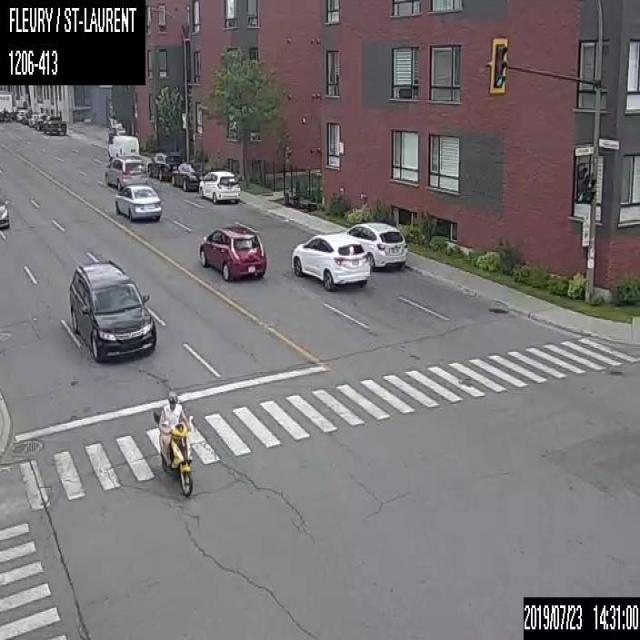vehicle: (66, 259, 158, 360), (289, 232, 370, 288), (152, 388, 192, 496), (197, 221, 266, 280), (342, 220, 407, 270), (114, 183, 160, 221), (103, 155, 146, 191), (198, 169, 240, 203), (147, 150, 181, 181), (171, 160, 205, 191), (108, 133, 139, 157), (44, 115, 66, 133), (0, 192, 9, 229), (34, 112, 48, 128), (22, 110, 32, 124), (14, 107, 24, 120), (28, 113, 35, 126)
